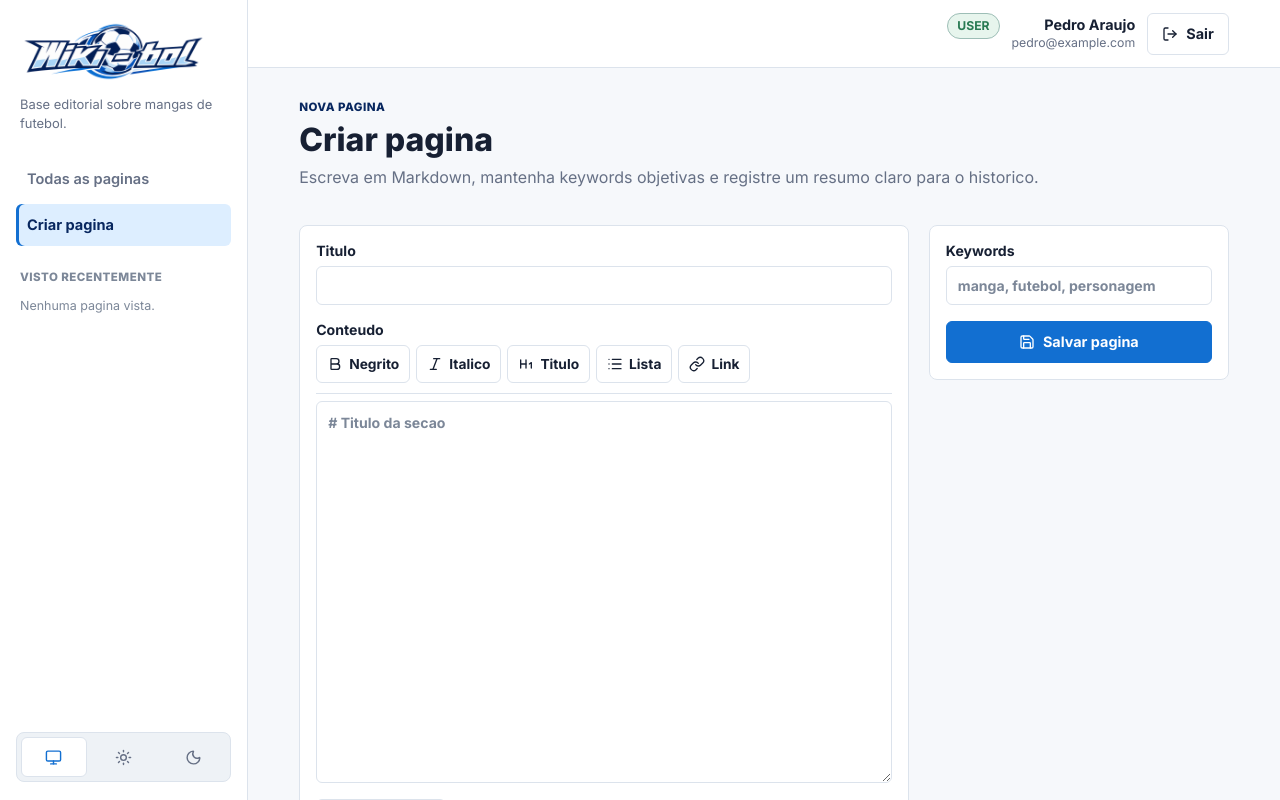
Wiki-bol frontend › prefills the link modal from the selected editor text and validates the URL
Expected: the heading "Criar pagina" is shown, 299,120 -> 493,159
Type "Leia Ao Ashi" into the text box labelled "Conteudo". click: coordinates (604, 592)
box: 316,401 -> 892,783
Click the button "Link". click: coordinates (714, 364)
box: 678,345 -> 750,383
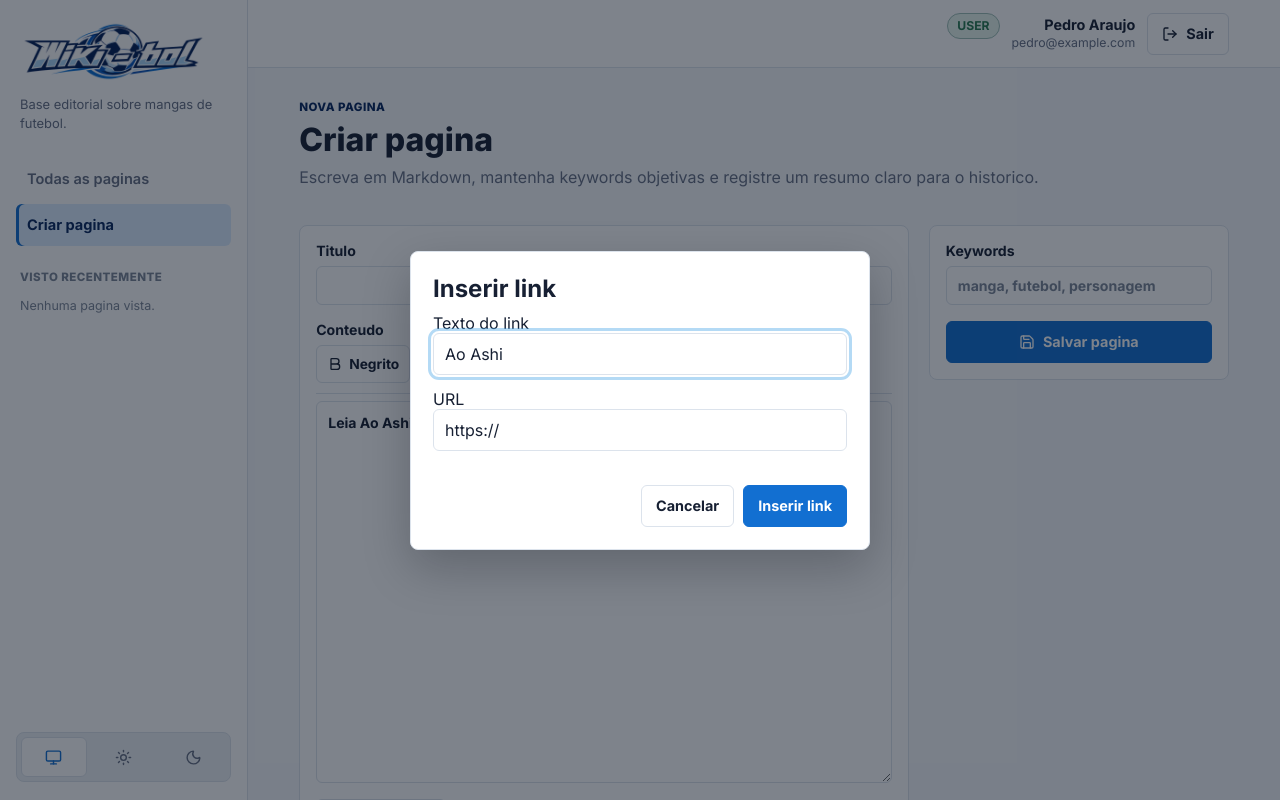
Expected: the field labelled "Texto do link" holds "Ao Ashi", 433,332 -> 847,374
Replace the text in the field labelled "URL" with "example.com". click: coordinates (640, 430)
box: 433,408 -> 847,450
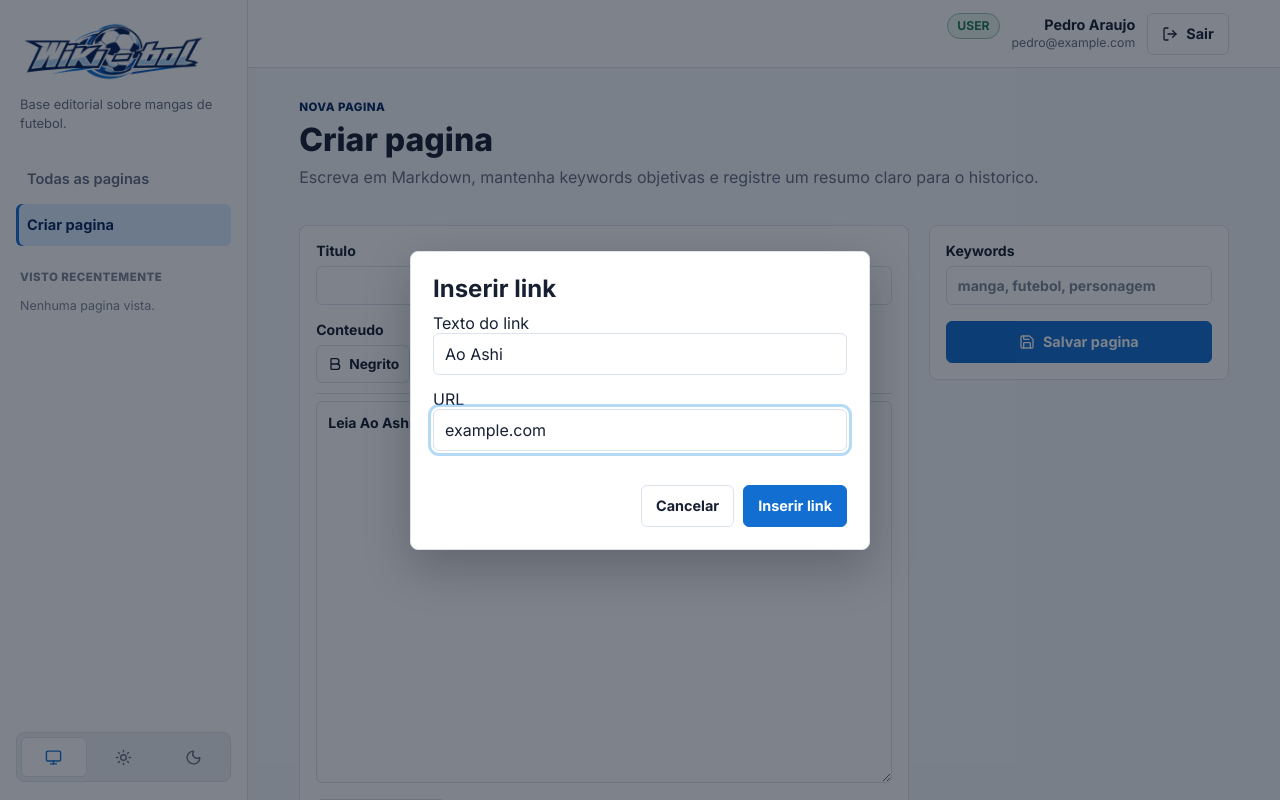
Click the button "Inserir link". click: coordinates (795, 506)
box: 743,484 -> 847,526
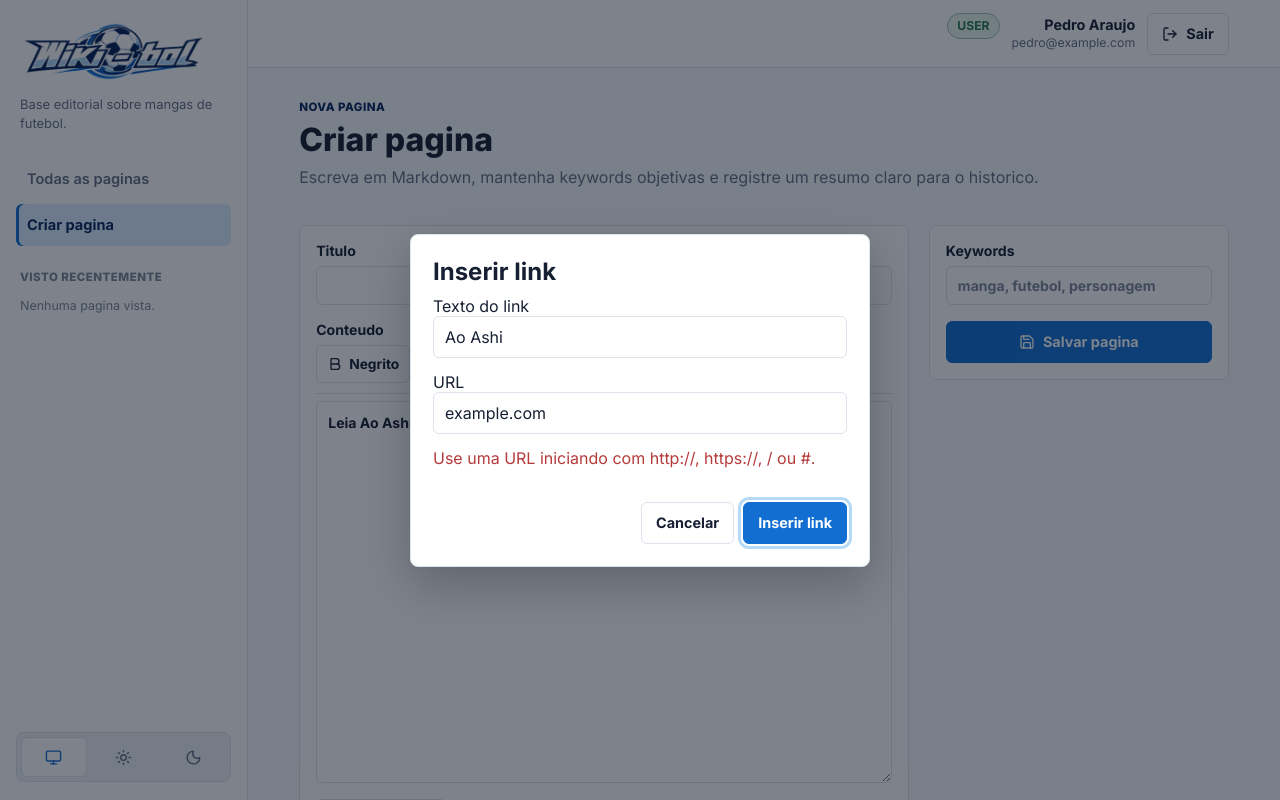
Expected: the text "Use uma URL iniciando com http://, https://, / ou #." is shown, 433,448 -> 847,468
Clear the field labelled "URL". click: coordinates (640, 412)
box: 433,392 -> 847,434
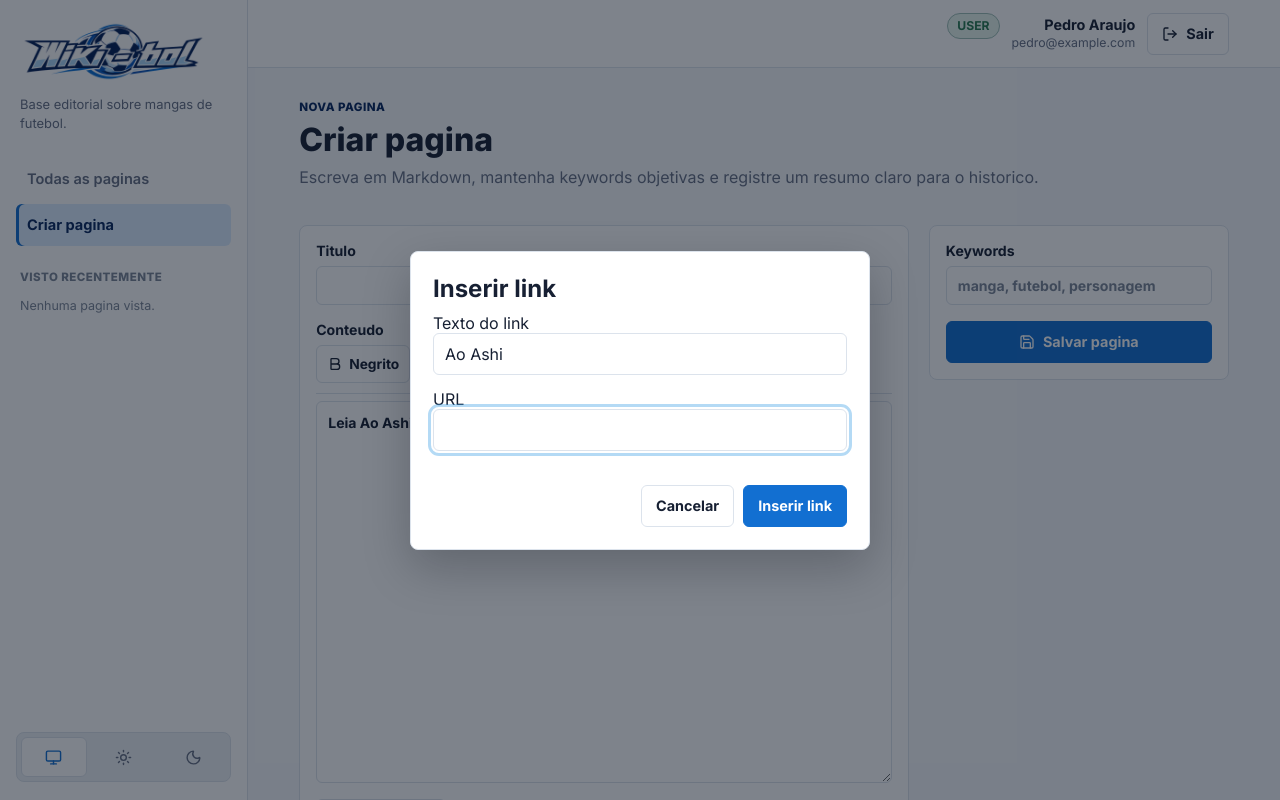
Type "/pages/ao-ashi" into the field labelled "URL". click: coordinates (640, 430)
box: 433,408 -> 847,450
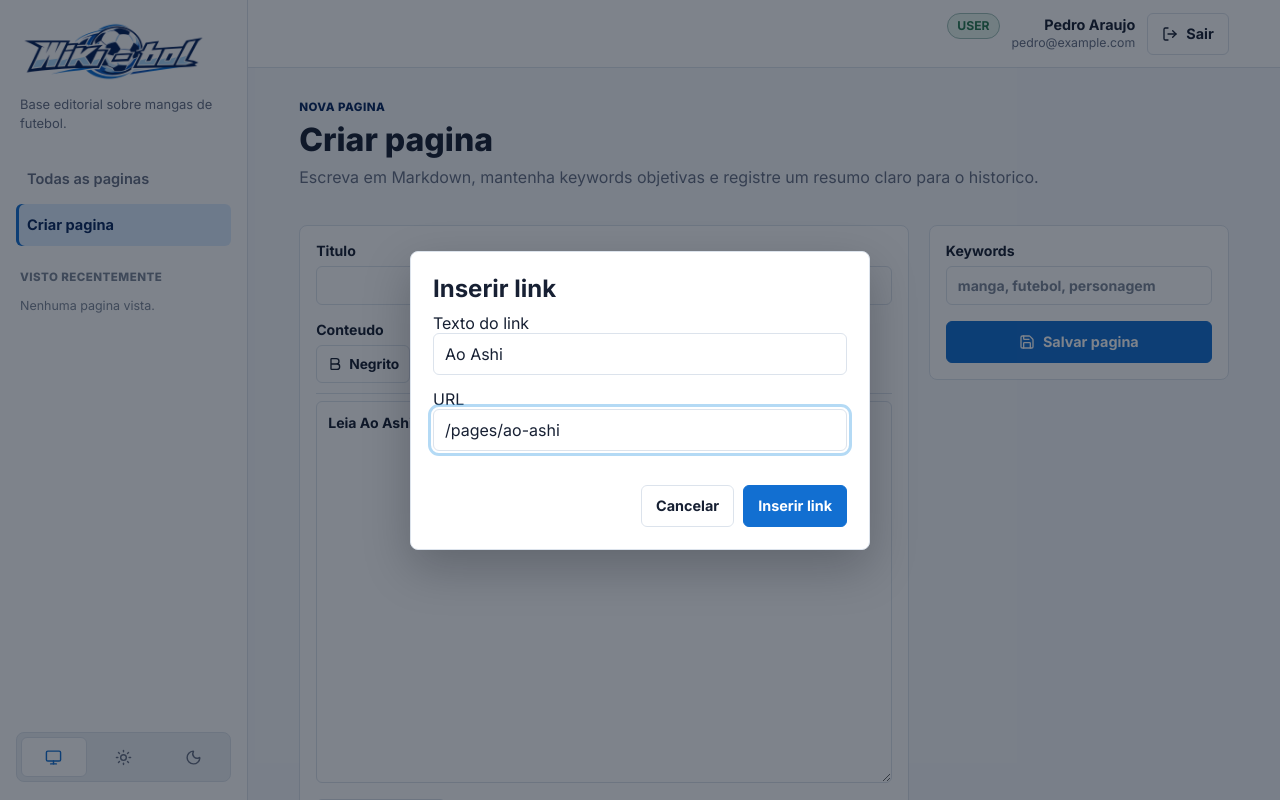
Click the button "Inserir link". click: coordinates (795, 506)
box: 743,484 -> 847,526
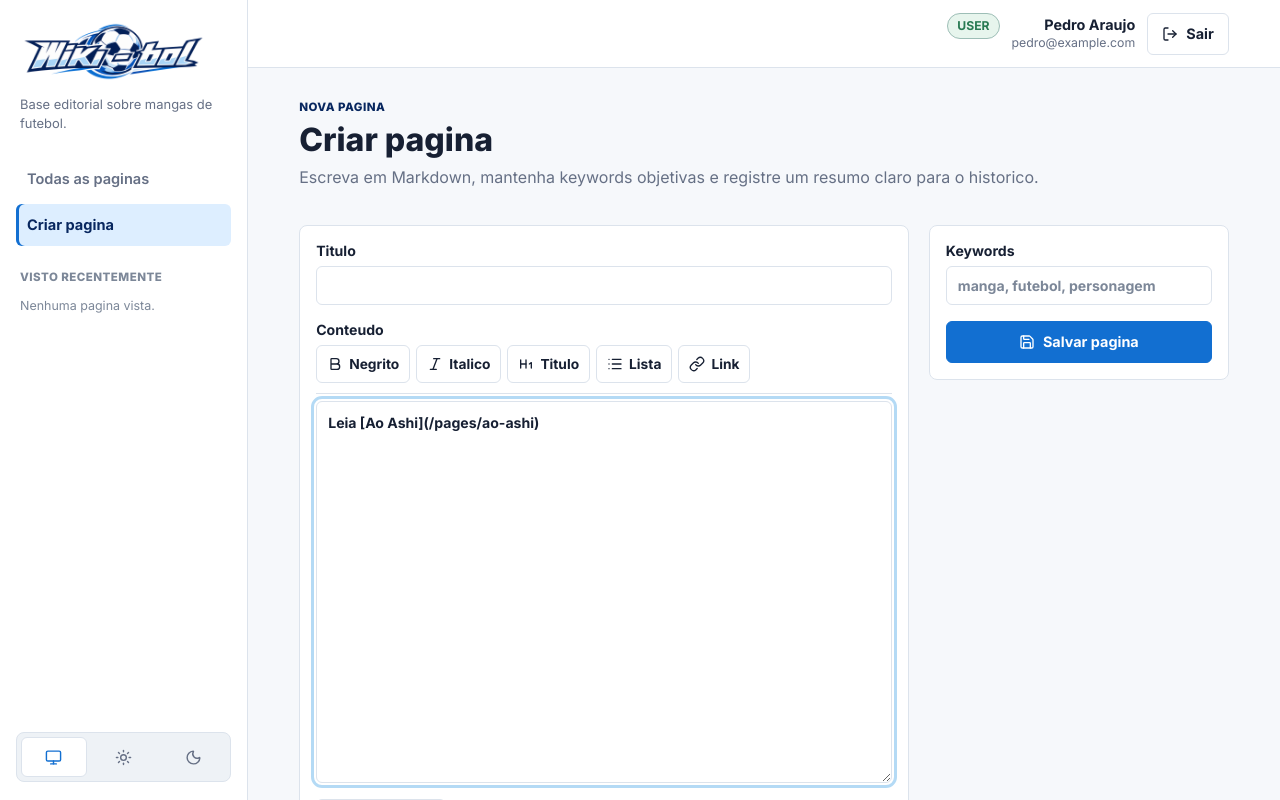
Expected: the heading "Inserir link" is gone
Expected: the text box labelled "Conteudo" holds "Leia [Ao Ashi](/pages/ao-ashi)", 316,401 -> 892,783
